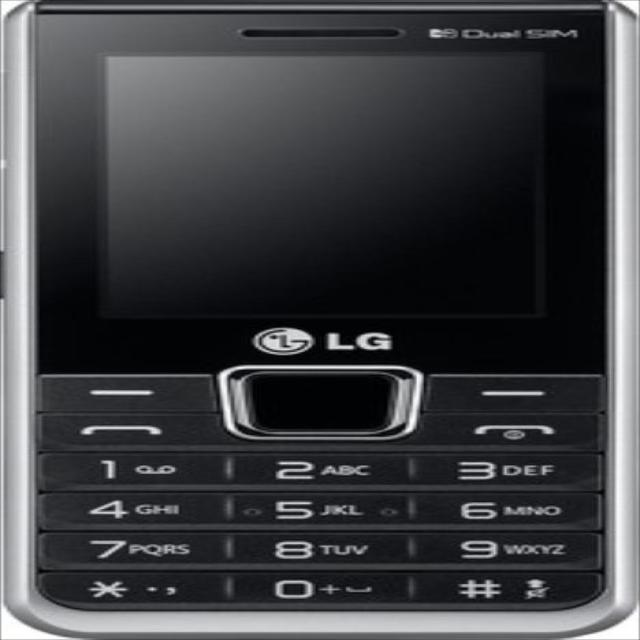Mobile-phone: (0, 3, 637, 640)
